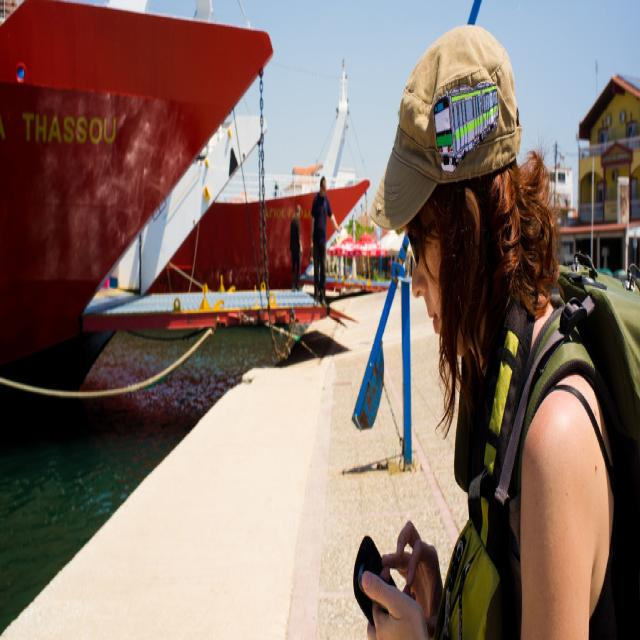Boat: (0, 0, 271, 399), (138, 172, 374, 327), (314, 55, 356, 189)
